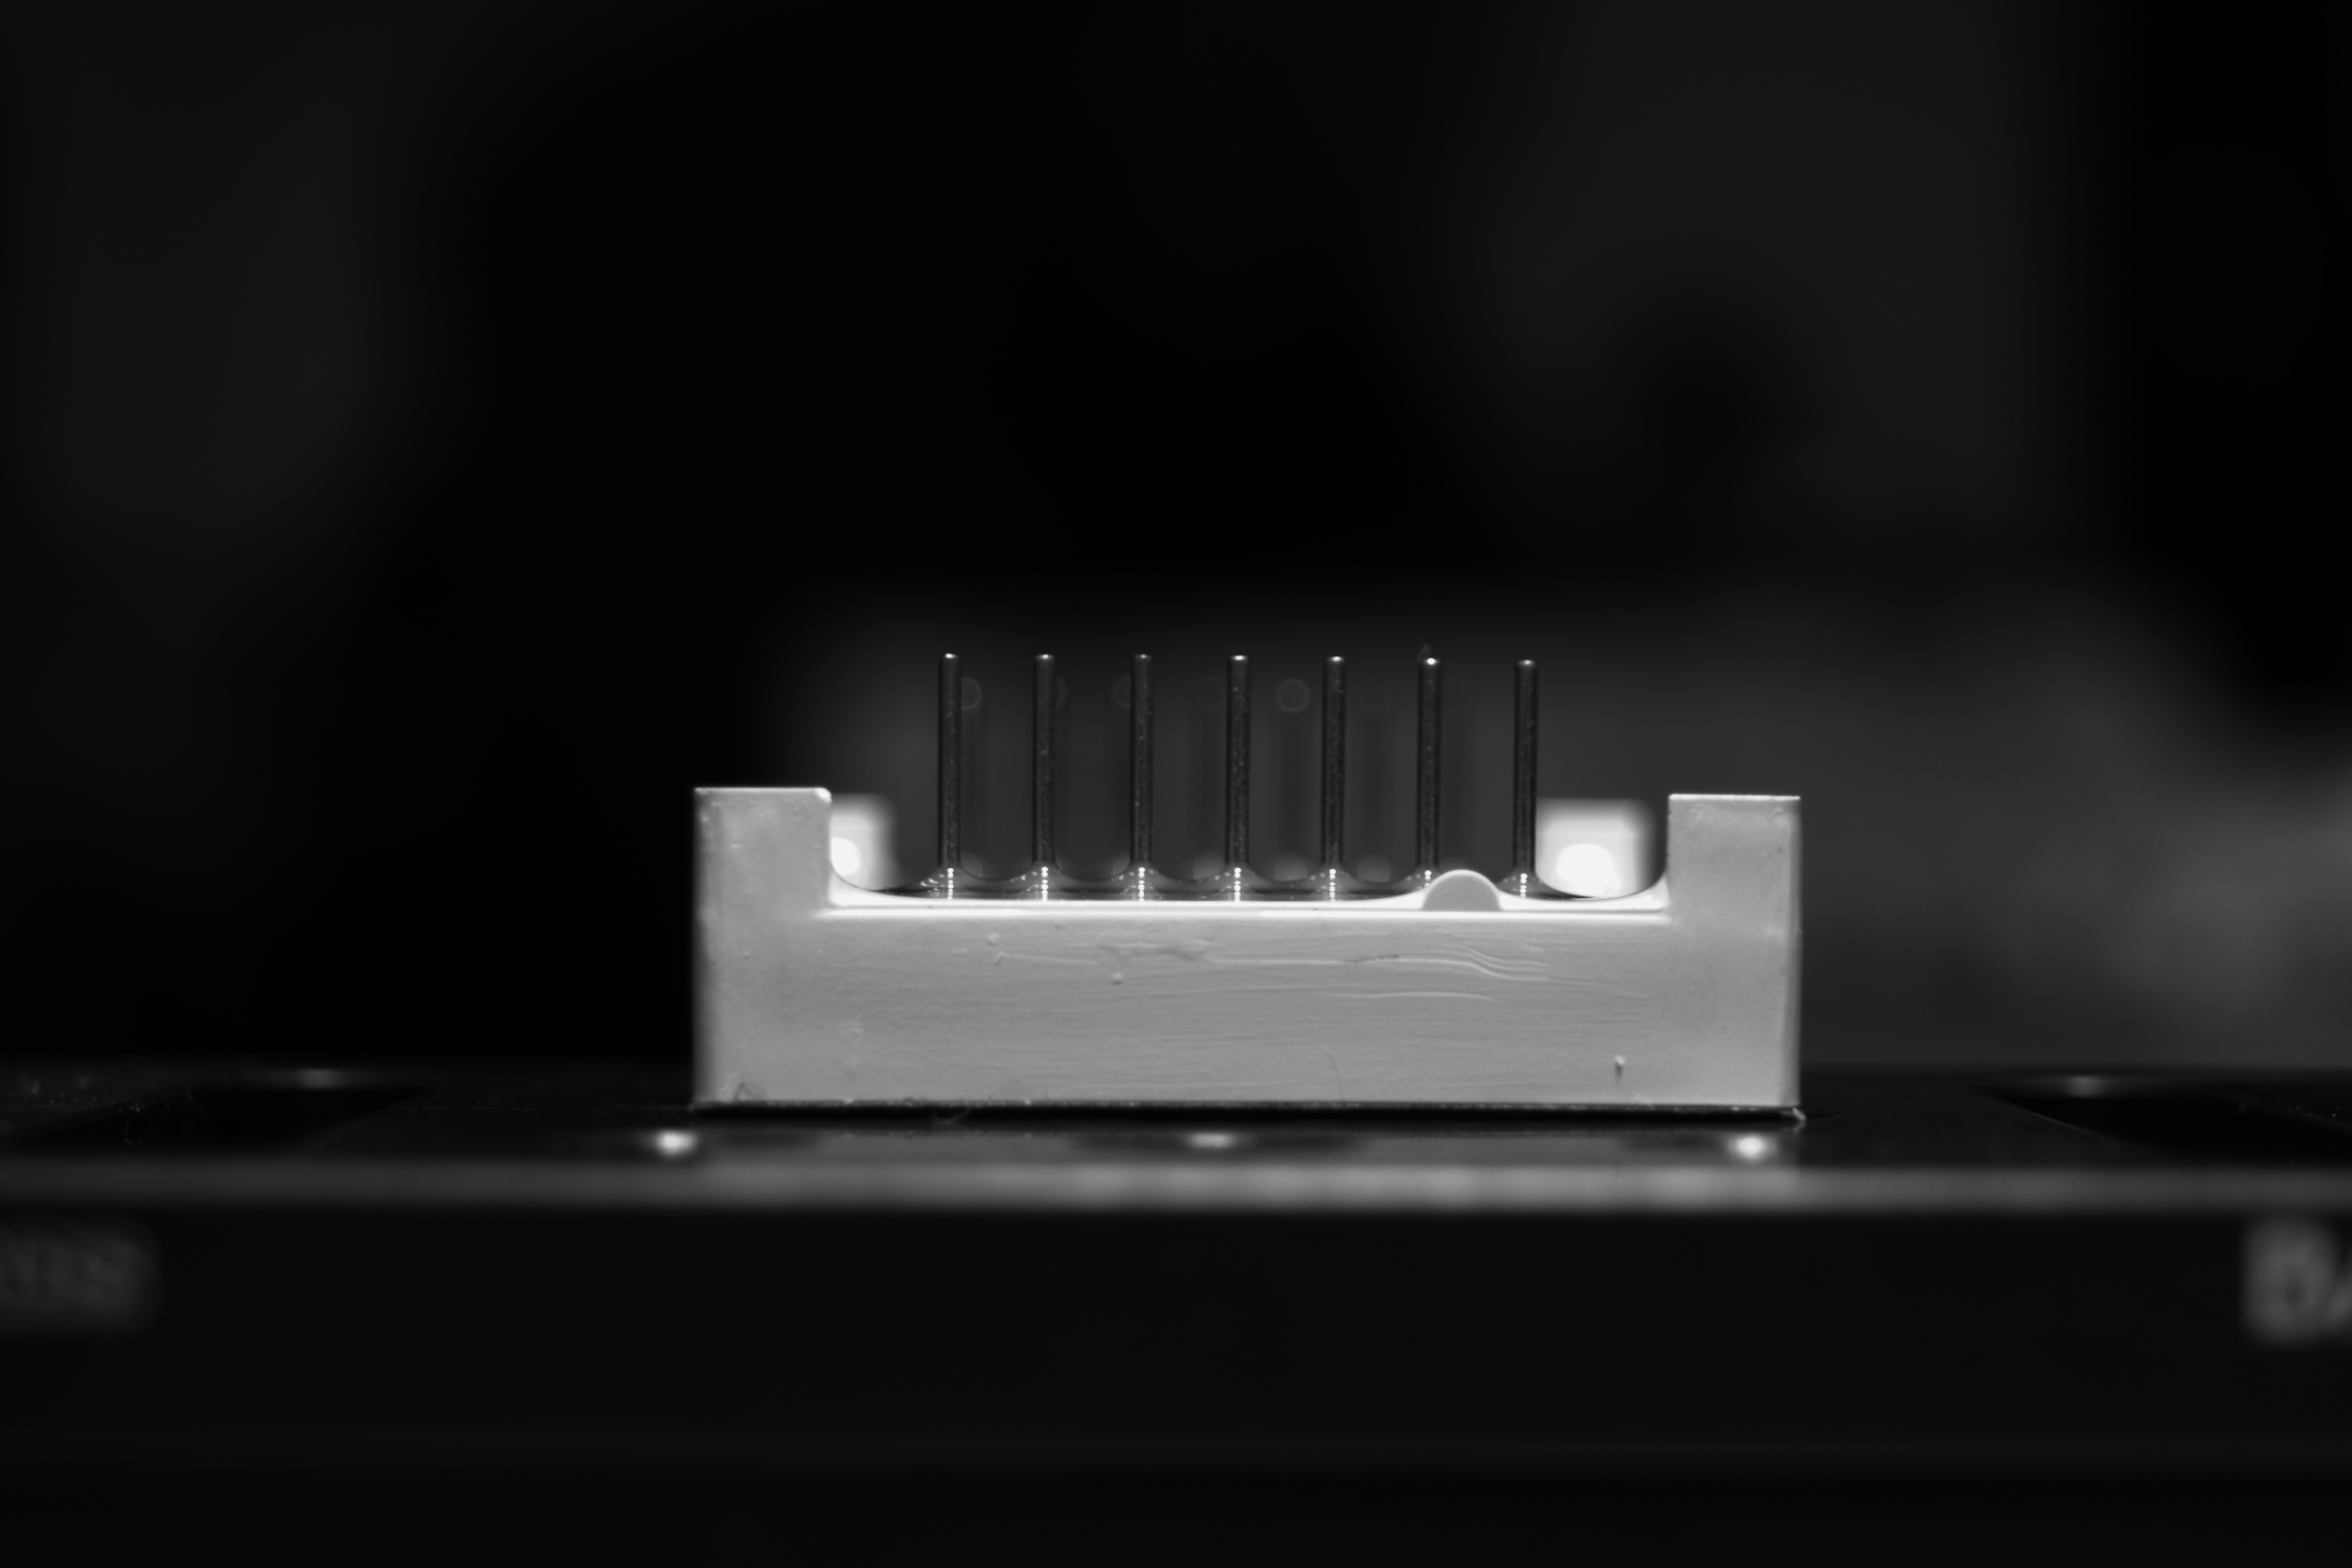glue: (1097, 917, 1218, 962)
